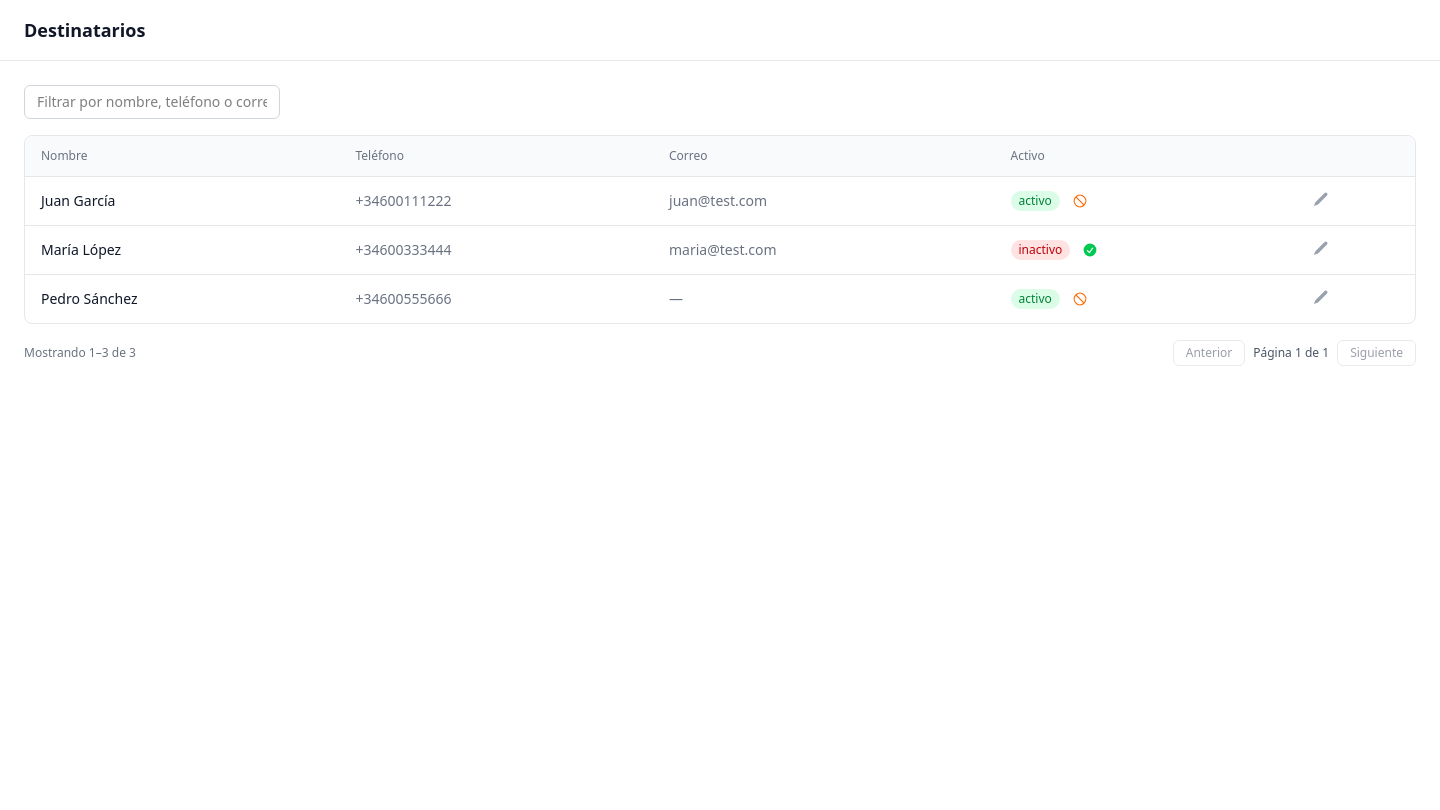
Test: RecipientsPage › opens edit modal when edit button is clicked
The image size is (1440, 810).
Expected: the text "Juan García" is shown, [25,176,340,226]
Note: Find the first row's edit tooltip and click its button
Click the 2nd button: click(1322, 199) [1314,191,1330,207]
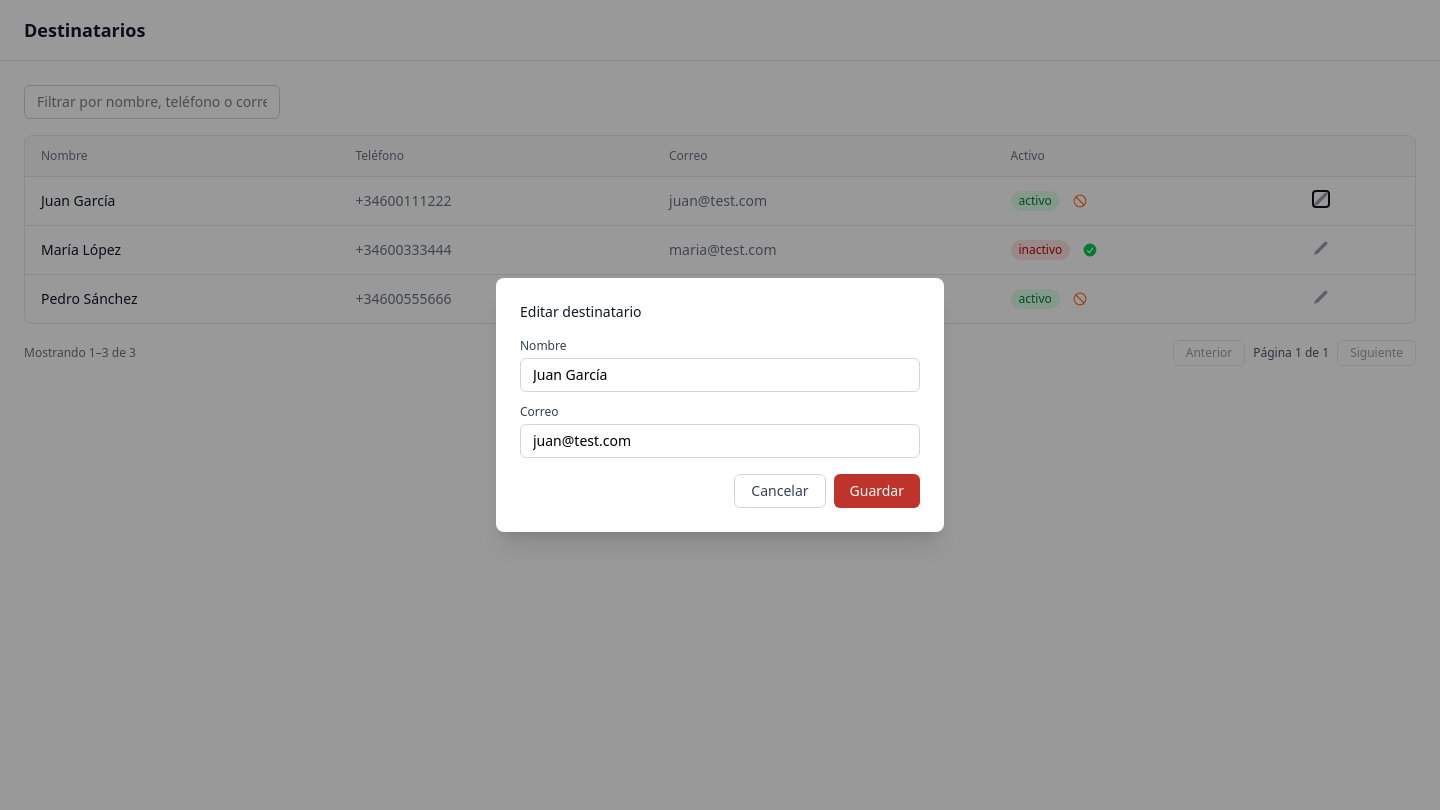
Expected: the heading "Editar destinatario" is shown, [520,302,642,321]
Expected: the 1st field showing "Juan García" is shown, [520,358,920,392]
